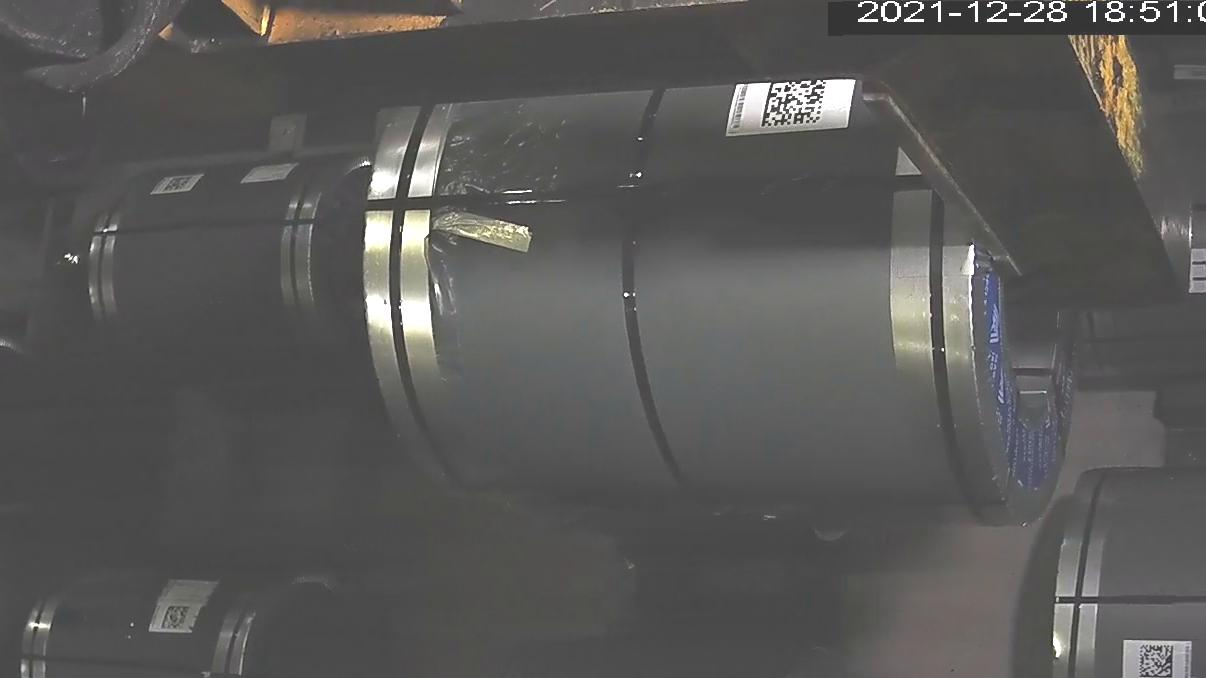data matrix: (1135, 642, 1178, 678)
